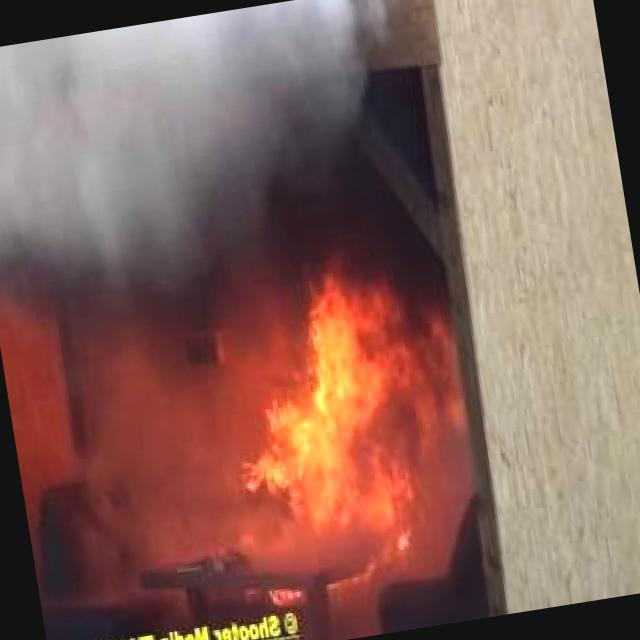fire: (200, 242, 486, 586)
